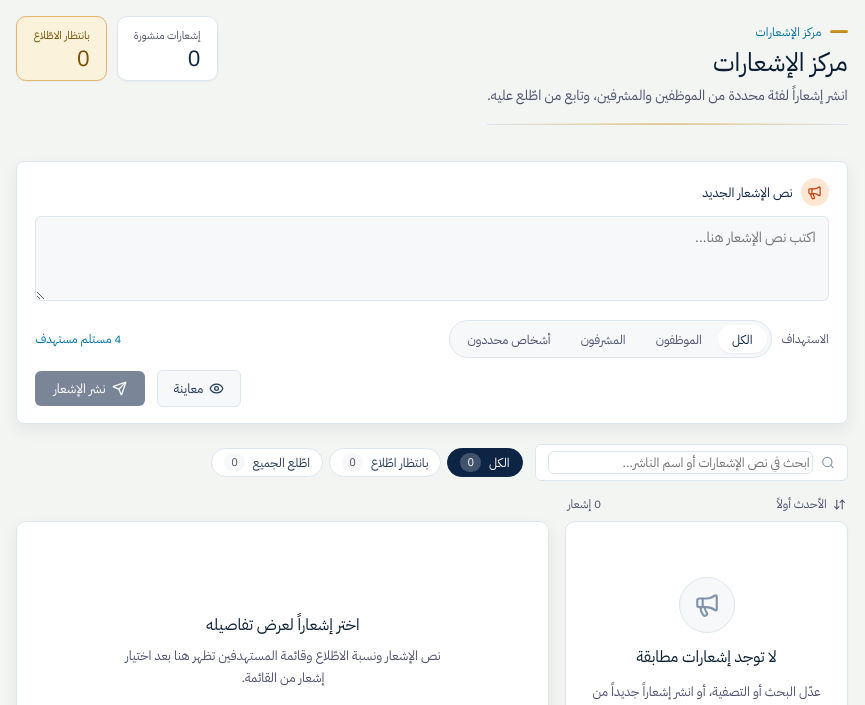
Test: NotificationComposer targeting › resets the target back to "all" after a successful post
This screenshot has width=865, height=705.
expect the heading "لا توجد إشعارات مطابقة" is shown: met, box [636,645,777,669]
Click the tab "المشرفون".
click(603, 339)  # box [567,325,640,353]
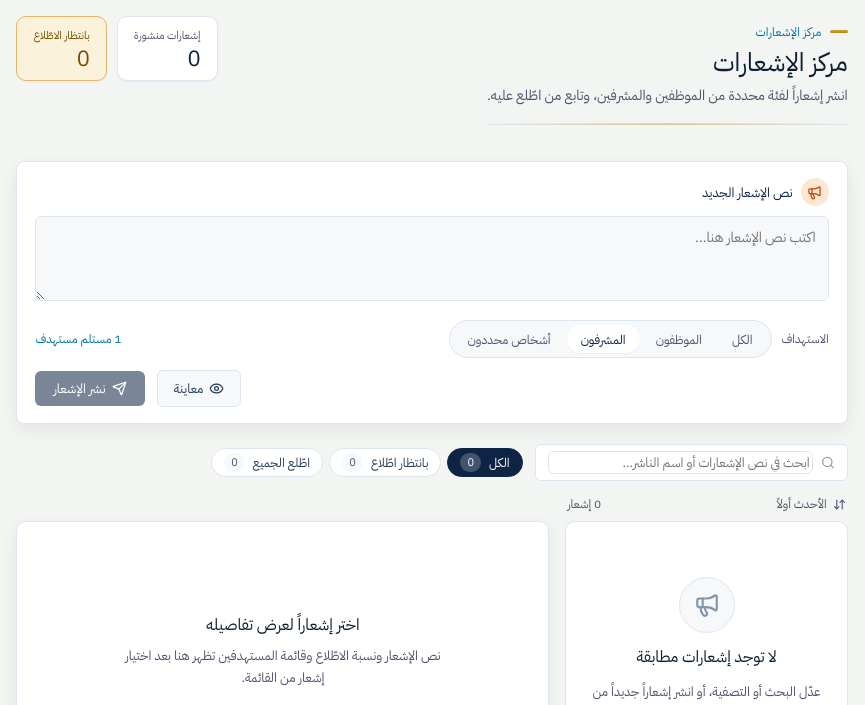
Type "رسالة" into the text box labelled "نص الإشعار الجديد".
click(432, 259); type("رسالة")  # box [35,216,829,301]
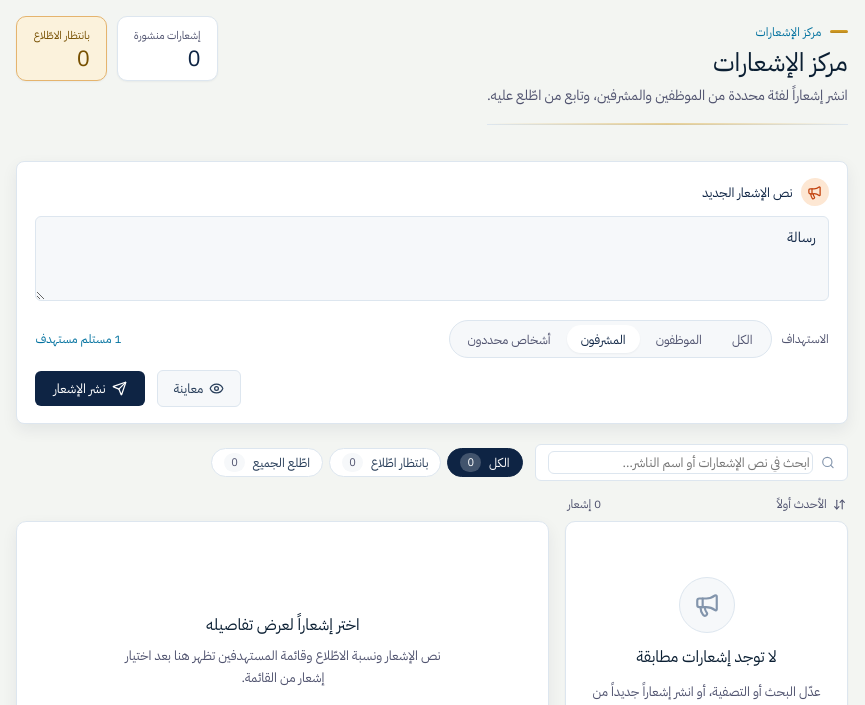
Click the button "نشر الإشعار".
click(90, 389)  # box [35,371,145,406]
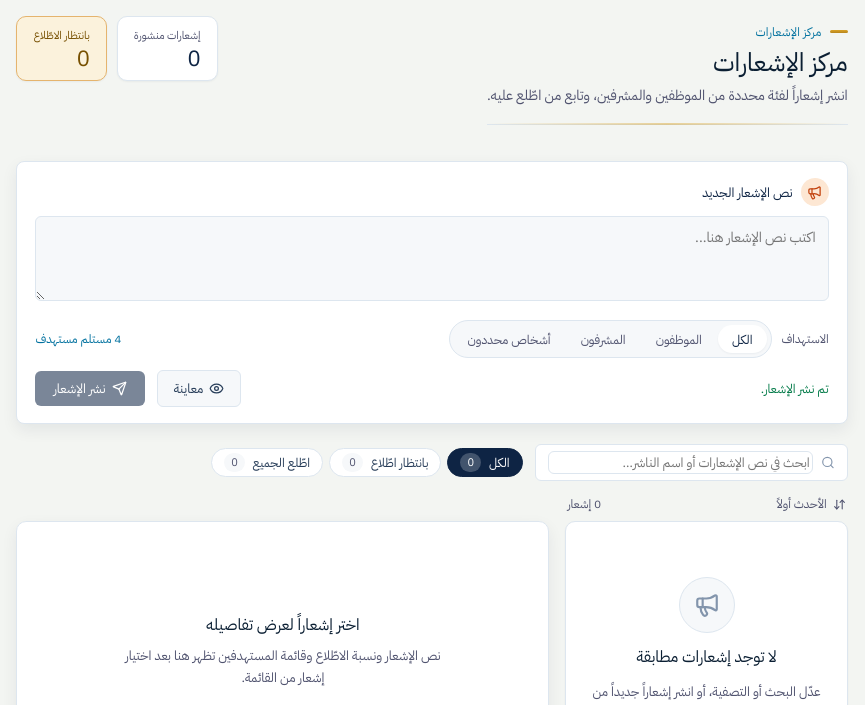
expect the text "تم نشر الإشعار." is shown: met, box [761,379,829,398]
expect the text "4 مستلم مستهدف" is shown: met, box [35,330,122,348]
